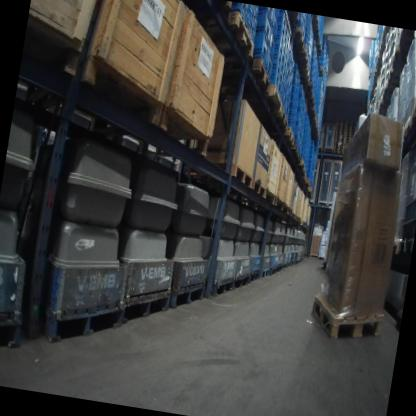pallet: (39, 291, 123, 354), (307, 293, 387, 348), (193, 4, 259, 59), (119, 281, 171, 329), (199, 157, 255, 190), (169, 274, 207, 313), (0, 307, 25, 356), (246, 56, 275, 96), (211, 273, 235, 299), (188, 0, 232, 14), (290, 24, 307, 50), (249, 176, 267, 200), (391, 47, 408, 71), (274, 107, 290, 131), (233, 270, 251, 291), (397, 29, 414, 50), (408, 93, 416, 131), (282, 126, 296, 145), (386, 69, 400, 86), (300, 63, 311, 83), (382, 84, 394, 102), (300, 47, 310, 67), (304, 80, 314, 97), (249, 268, 259, 283), (259, 266, 269, 280), (314, 42, 323, 56), (288, 142, 299, 153), (290, 11, 300, 23), (285, 205, 294, 218), (268, 265, 277, 276), (304, 178, 311, 187), (312, 116, 318, 126), (333, 150, 343, 156), (296, 151, 301, 162), (333, 142, 344, 147), (333, 145, 344, 150), (335, 127, 345, 132), (336, 125, 346, 130), (336, 122, 346, 127), (345, 129, 355, 134), (345, 126, 355, 131), (293, 212, 299, 220), (345, 131, 354, 136), (334, 137, 345, 141), (334, 139, 344, 143), (335, 134, 345, 138), (335, 131, 345, 135), (333, 148, 343, 152), (291, 212, 296, 219), (344, 137, 351, 142), (277, 264, 281, 272), (302, 167, 306, 175), (345, 134, 353, 138), (282, 262, 286, 269), (286, 262, 290, 268), (304, 175, 307, 182), (344, 140, 349, 144), (344, 143, 346, 147)
small_load_carrier: (249, 28, 271, 69), (253, 11, 274, 47), (256, 6, 274, 26), (267, 28, 278, 60), (264, 49, 275, 78), (270, 9, 280, 37), (293, 110, 302, 131), (270, 63, 281, 79), (269, 72, 280, 88), (275, 33, 285, 49), (295, 96, 303, 116), (272, 54, 282, 69), (294, 15, 304, 30), (276, 25, 286, 39), (281, 88, 288, 108), (283, 98, 290, 117), (293, 124, 300, 143), (274, 45, 283, 59), (297, 85, 304, 103), (278, 9, 288, 21), (284, 65, 291, 82), (283, 77, 290, 94), (277, 19, 286, 32), (288, 63, 295, 79), (286, 86, 292, 103), (278, 62, 284, 78), (299, 105, 304, 124), (276, 80, 282, 95), (287, 74, 293, 89), (279, 85, 284, 102), (302, 14, 307, 31), (286, 54, 292, 68), (296, 131, 301, 147), (301, 26, 306, 41), (297, 122, 302, 137), (272, 8, 280, 17), (286, 28, 291, 42), (278, 71, 283, 85), (282, 41, 287, 54), (284, 20, 289, 33), (283, 58, 288, 70), (285, 41, 290, 53), (281, 53, 285, 66), (281, 49, 286, 59), (283, 35, 288, 45), (282, 67, 286, 79), (281, 77, 285, 89), (284, 52, 288, 62), (284, 29, 288, 38)
